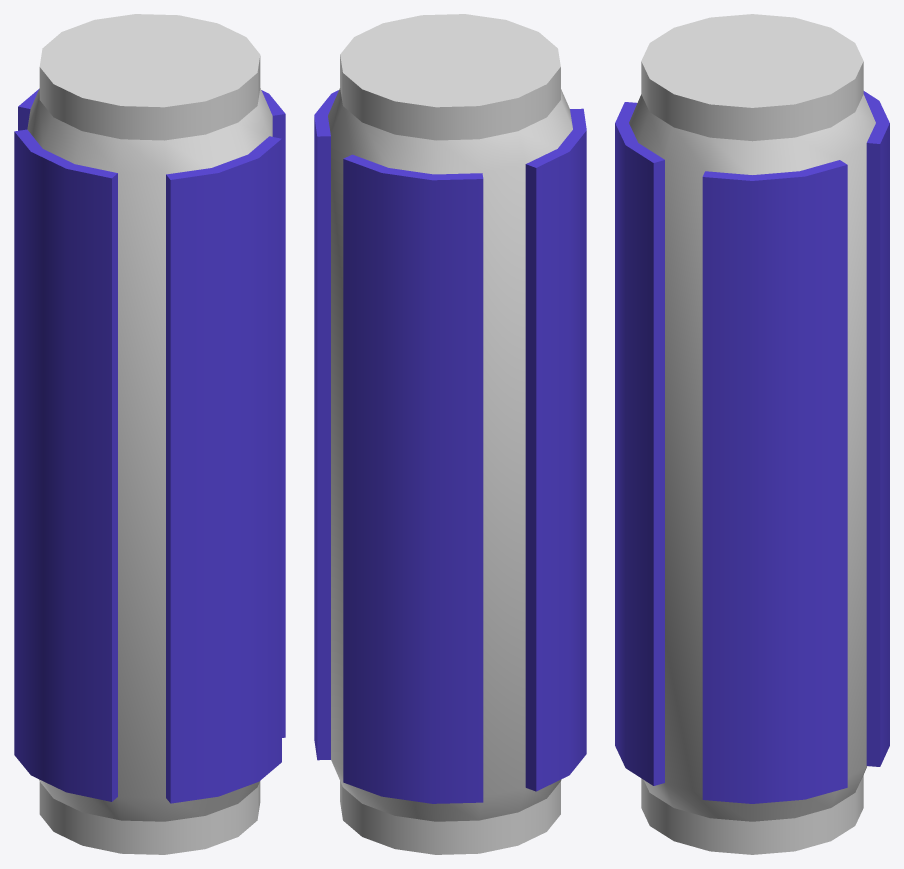
Rendered from Column 6x2x2 Solid.fbx.
3 views of the same model, side by side, from view 1: azimuth 30°, elevation 25°; view 2: azimuth 150°, elevation 25°; view 3: azimuth 270°, elevation 25° (orthographic).
Parts seen in each view (by area): view 1: Column 6x2x2; view 2: Column 6x2x2; view 3: Column 6x2x2.
Part boxes in pixels (x1,y1,x2,y2): Column 6x2x2: (14, 14, 285, 854); Column 6x2x2: (314, 14, 586, 854); Column 6x2x2: (615, 14, 889, 854).
Size of the model in its own units: 2 by 6 by 2.
